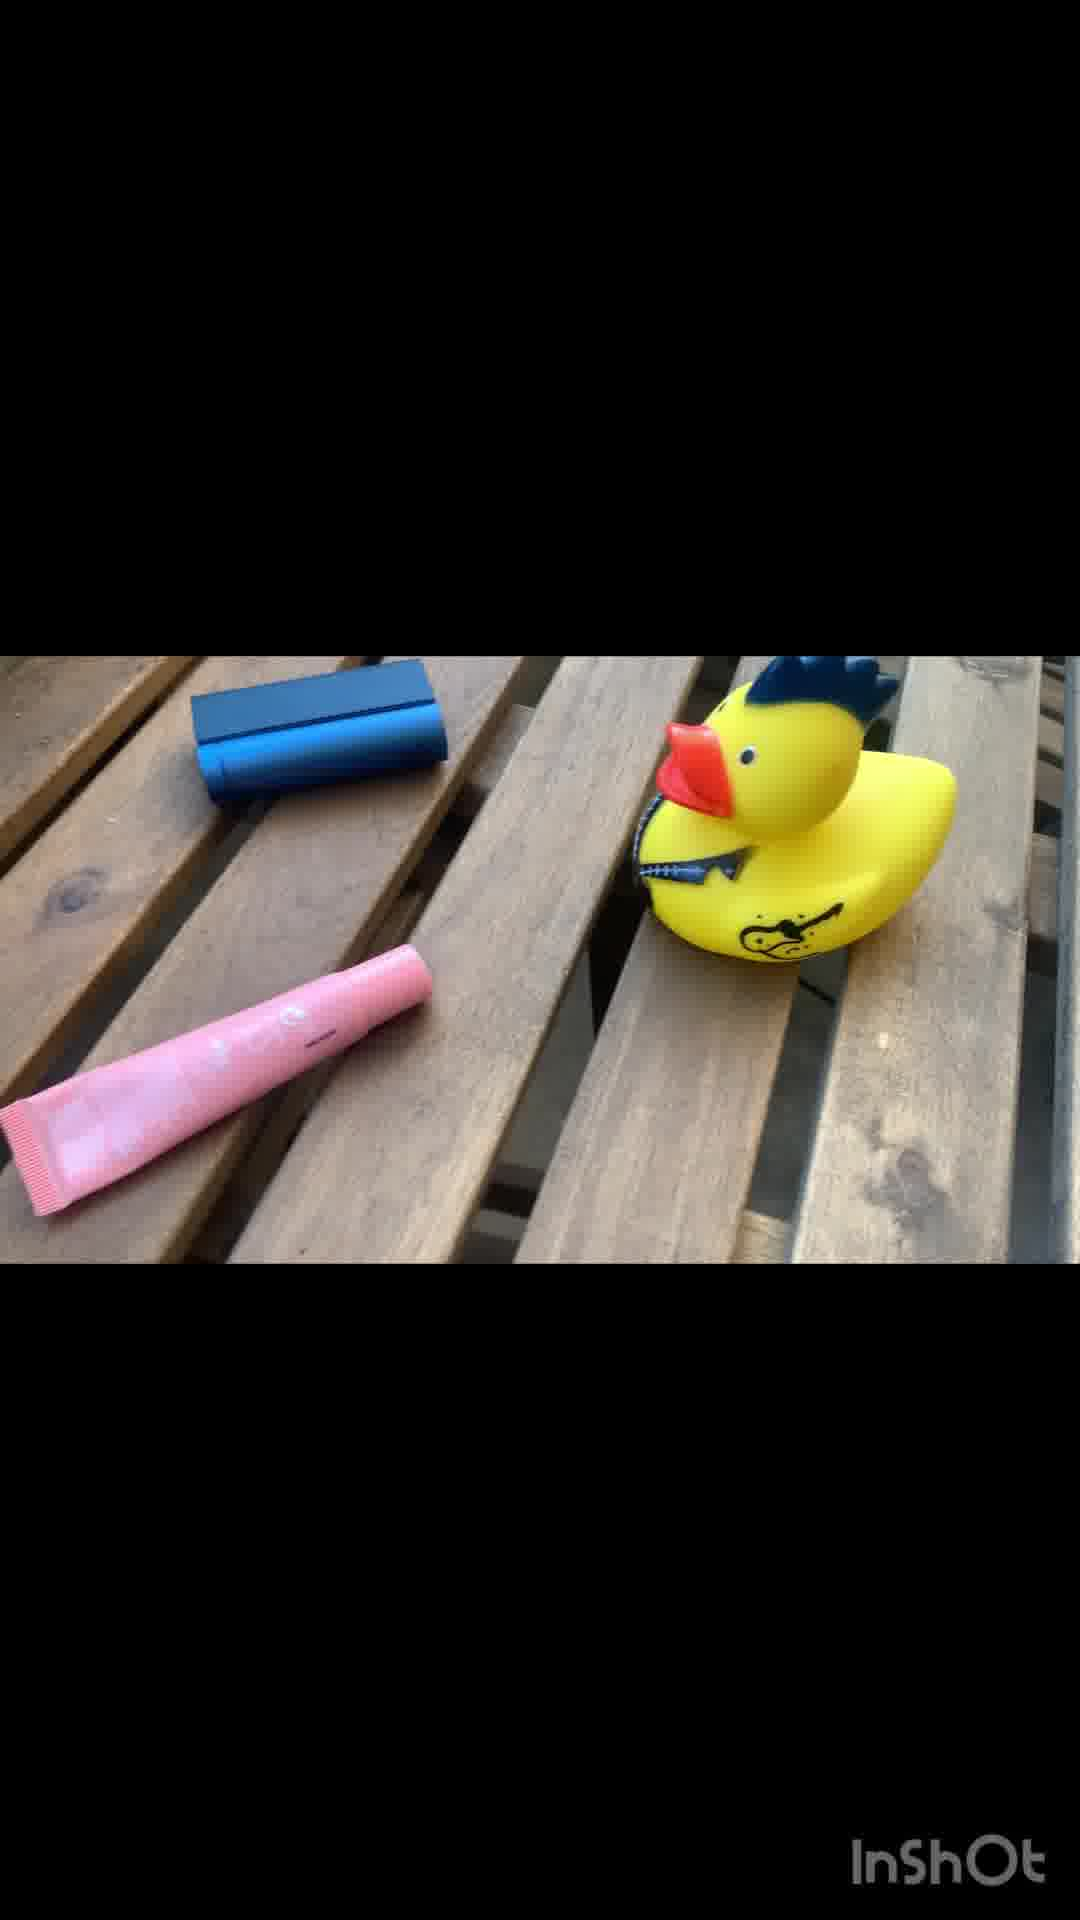duck: (626, 651, 963, 977)
glo: (164, 654, 492, 803)
lip balm: (1, 928, 454, 1240)
